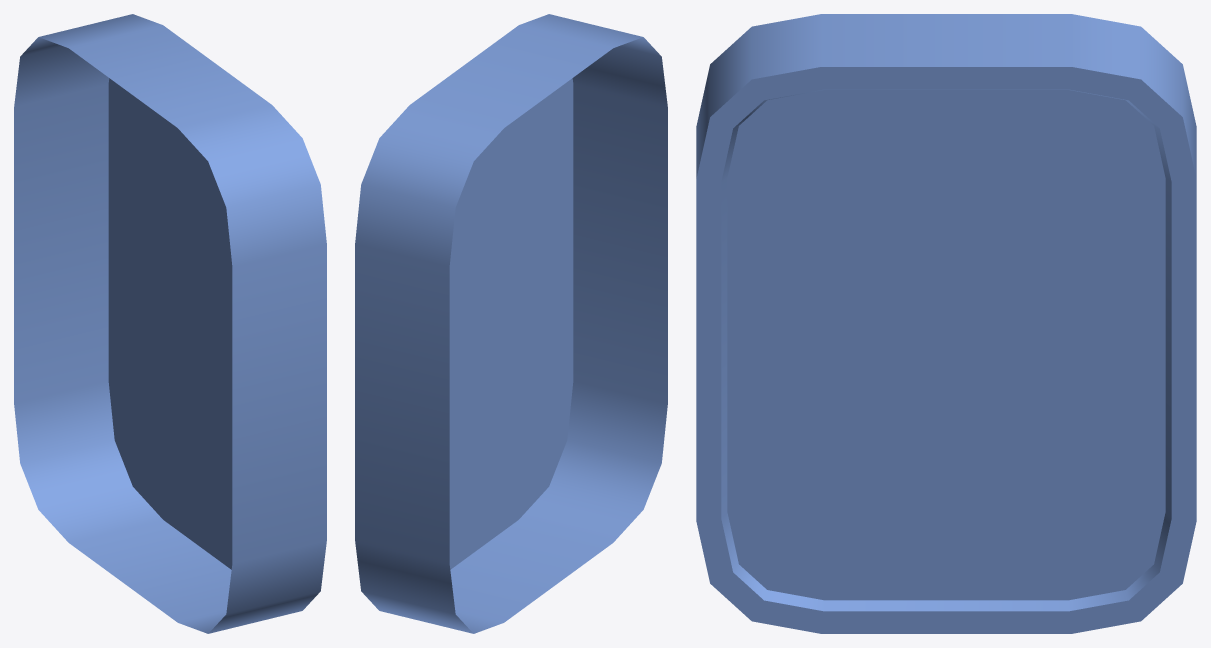
File: rcOrderMonitor.FBX
3 views of the same model, side by side, from view 1: azimuth 30°, elevation 25°; view 2: azimuth 150°, elevation 25°; view 3: azimuth 270°, elevation 25° (orthographic). The views are drawn at different scales.
Parts seen in each view (by area): view 1: orderMonitor; view 2: orderMonitor; view 3: orderMonitor.
Part boxes in pixels (box(x1,y1,x2,y2)): orderMonitor: box(14, 14, 326, 633); orderMonitor: box(355, 14, 667, 633); orderMonitor: box(696, 14, 1196, 633).
Bounding box in the file's own units: 0.1 × 0.5 × 0.4.
